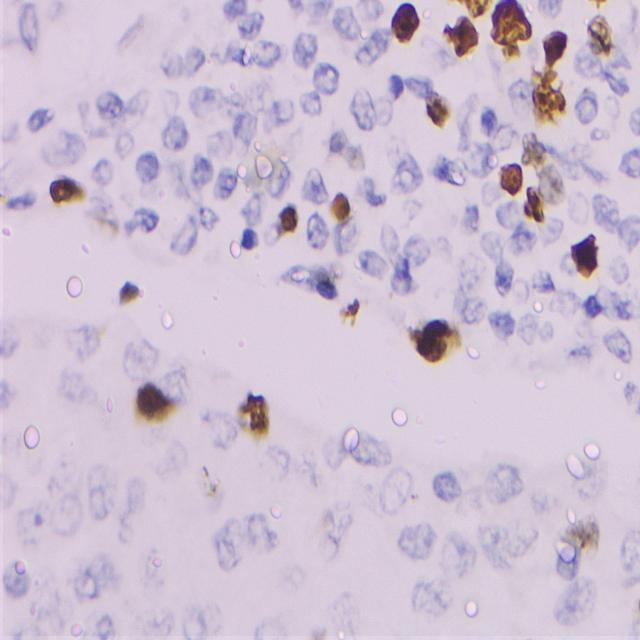Healthy cell: (477, 519, 522, 584), (556, 576, 605, 630), (475, 459, 523, 505), (113, 472, 147, 536), (437, 536, 481, 583), (38, 130, 88, 170), (210, 522, 247, 574), (326, 588, 363, 639), (447, 267, 483, 319), (49, 490, 86, 540), (410, 582, 456, 622), (39, 452, 78, 496), (120, 332, 158, 375), (89, 548, 124, 594), (425, 153, 467, 191), (523, 468, 553, 520), (242, 510, 277, 554), (65, 328, 107, 362), (392, 152, 424, 196), (87, 470, 114, 522), (299, 209, 334, 249), (322, 502, 362, 537), (386, 252, 416, 298), (572, 462, 610, 498), (475, 223, 508, 264), (170, 214, 198, 262), (329, 8, 366, 44), (400, 522, 435, 560), (550, 287, 584, 326), (205, 403, 232, 452), (352, 28, 392, 61), (0, 556, 33, 596), (300, 162, 329, 207), (60, 370, 92, 410), (19, 498, 51, 538), (0, 372, 25, 423), (610, 290, 640, 332), (353, 433, 387, 470), (432, 470, 472, 501), (21, 0, 45, 50), (157, 40, 187, 80), (611, 144, 640, 185), (352, 176, 388, 209), (400, 228, 433, 264), (225, 36, 262, 68), (123, 207, 162, 237), (159, 162, 188, 202), (510, 73, 534, 121), (494, 192, 526, 228), (72, 560, 98, 604), (130, 150, 160, 188), (594, 196, 622, 236), (614, 535, 640, 578), (573, 80, 597, 126), (385, 469, 411, 511), (314, 64, 346, 98), (460, 139, 489, 176), (180, 153, 208, 191), (512, 308, 536, 352), (616, 208, 640, 252), (454, 200, 482, 237), (219, 79, 246, 117), (483, 312, 514, 345), (293, 30, 319, 69), (350, 86, 371, 134), (590, 99, 614, 141), (94, 93, 130, 121), (325, 426, 349, 468), (297, 92, 331, 121), (353, 252, 388, 280), (493, 257, 515, 301), (563, 186, 586, 228), (0, 468, 20, 516), (266, 159, 291, 197), (27, 99, 54, 134), (179, 603, 204, 640), (289, 0, 329, 23), (506, 232, 544, 256), (278, 266, 310, 294), (265, 448, 291, 482), (372, 217, 395, 255), (1, 319, 22, 360), (329, 116, 348, 161), (208, 596, 228, 637), (10, 189, 38, 217), (215, 164, 235, 203), (183, 42, 204, 79), (374, 93, 392, 134), (89, 613, 116, 640), (529, 266, 555, 294), (397, 199, 426, 224), (252, 619, 286, 640), (582, 286, 603, 319), (233, 16, 263, 39), (233, 113, 256, 143), (614, 376, 640, 402), (269, 99, 294, 126), (192, 89, 219, 114), (603, 336, 635, 357), (239, 196, 262, 225), (0, 113, 22, 143), (161, 117, 186, 143), (210, 136, 238, 159), (86, 156, 115, 178), (129, 90, 147, 125), (476, 107, 499, 134), (218, 0, 247, 21), (609, 253, 627, 286), (386, 73, 404, 105), (259, 38, 279, 66), (609, 76, 631, 101), (435, 230, 451, 263), (113, 132, 135, 156), (258, 107, 276, 135), (580, 49, 598, 77), (357, 0, 382, 19), (406, 73, 427, 95), (200, 204, 220, 227), (236, 229, 254, 254), (629, 107, 640, 134)
cancer-cell-QiJm: (403, 316, 467, 367), (232, 387, 272, 445), (130, 382, 182, 426), (84, 183, 122, 243), (533, 73, 570, 124), (564, 513, 602, 557), (46, 179, 92, 215), (494, 0, 530, 46), (446, 20, 482, 61), (569, 236, 601, 279), (454, 93, 478, 150), (195, 460, 228, 500), (390, 0, 421, 42), (268, 199, 302, 237), (309, 262, 339, 305), (335, 293, 373, 326), (520, 184, 547, 228), (585, 15, 612, 57), (540, 28, 568, 68), (426, 89, 454, 126), (117, 276, 147, 309), (535, 166, 563, 201), (522, 133, 549, 166), (243, 154, 264, 194), (536, 2, 570, 26), (498, 162, 520, 198), (492, 125, 516, 156), (329, 189, 350, 222), (335, 222, 355, 255), (348, 142, 368, 175), (455, 0, 492, 17), (530, 64, 561, 84), (603, 45, 633, 65), (500, 38, 524, 61), (84, 319, 110, 338), (483, 174, 500, 202), (583, 0, 615, 13), (0, 186, 6, 208)
